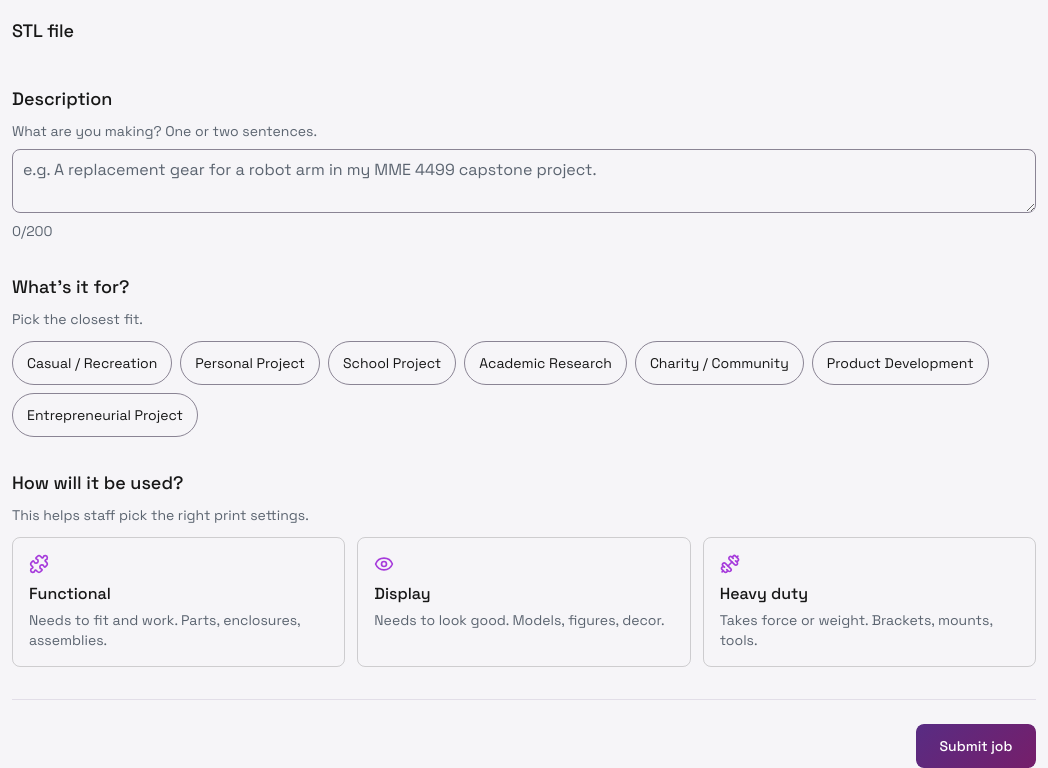
NewPrintForm Integration › field validation › shows error when how it will be used is not selected
(page scrolled)
Click the button "Submit job" at (976, 746), box [916, 724, 1036, 767]
(page scrolled)
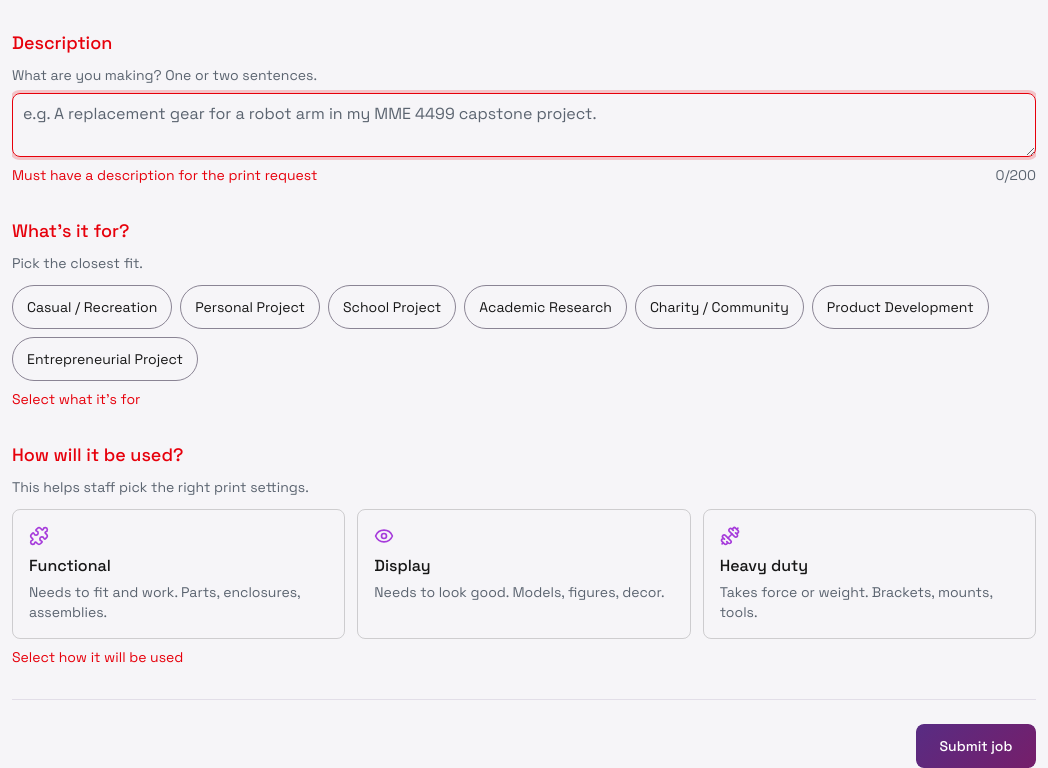
Now the text "Select how it will be used" is shown, box [12, 648, 183, 666]
